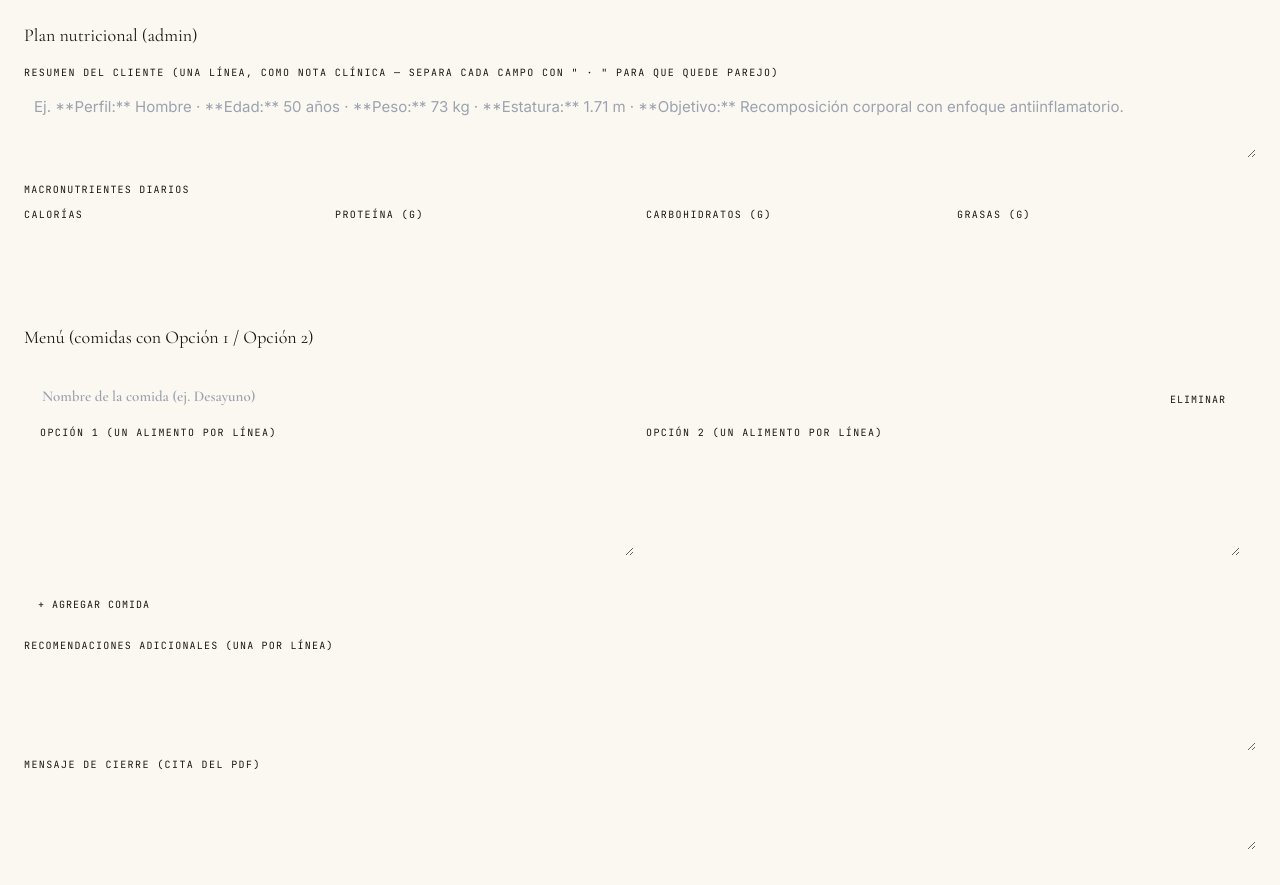
it: AdminNutritionPanel › adding a meal row shows a second Opción 1 / Opción 2 pair
expect the number of text boxes labelled "Opción 1 (un alimento por línea)" is 1: met, box x1=40 y1=446 x2=634 y2=556
Click the button "+ Agregar comida".
click(94, 604)  # box x1=24 y1=588 x2=164 y2=620
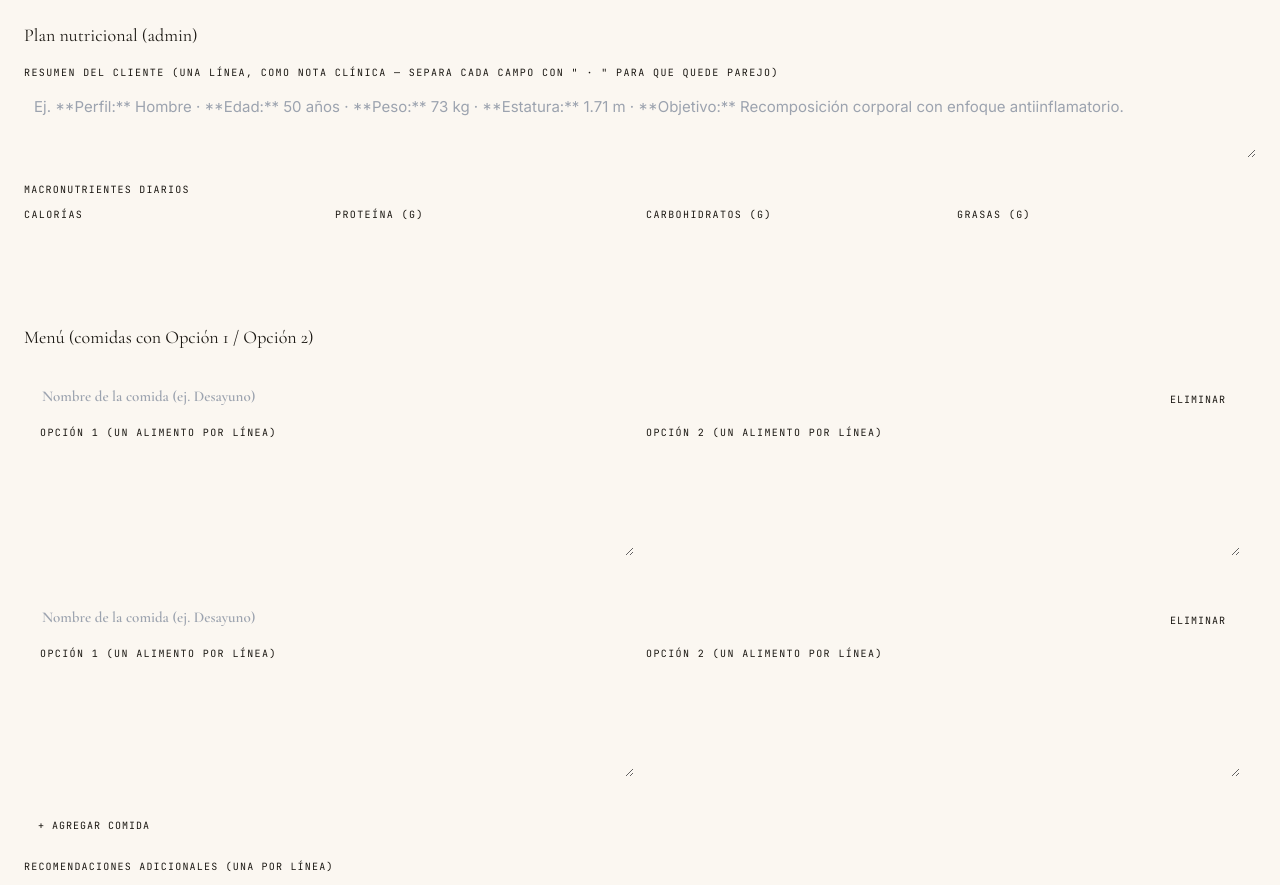
expect the number of text boxes labelled "Opción 1 (un alimento por línea)" is 2: met, box x1=40 y1=446 x2=634 y2=556; x1=40 y1=667 x2=634 y2=777
